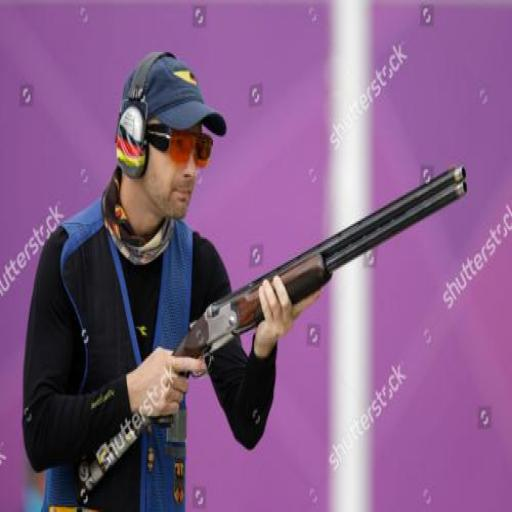shooting: (20, 49, 324, 510)
